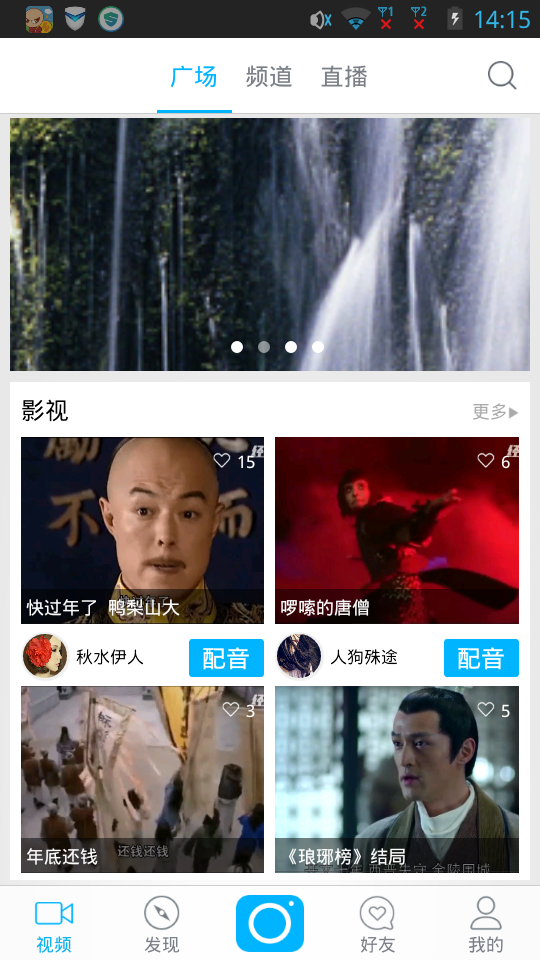button: (185, 636, 268, 682)
imgbutton: (481, 53, 526, 95)
imgview: (7, 116, 535, 374), (271, 434, 526, 631)
nav: (1, 883, 540, 959)
